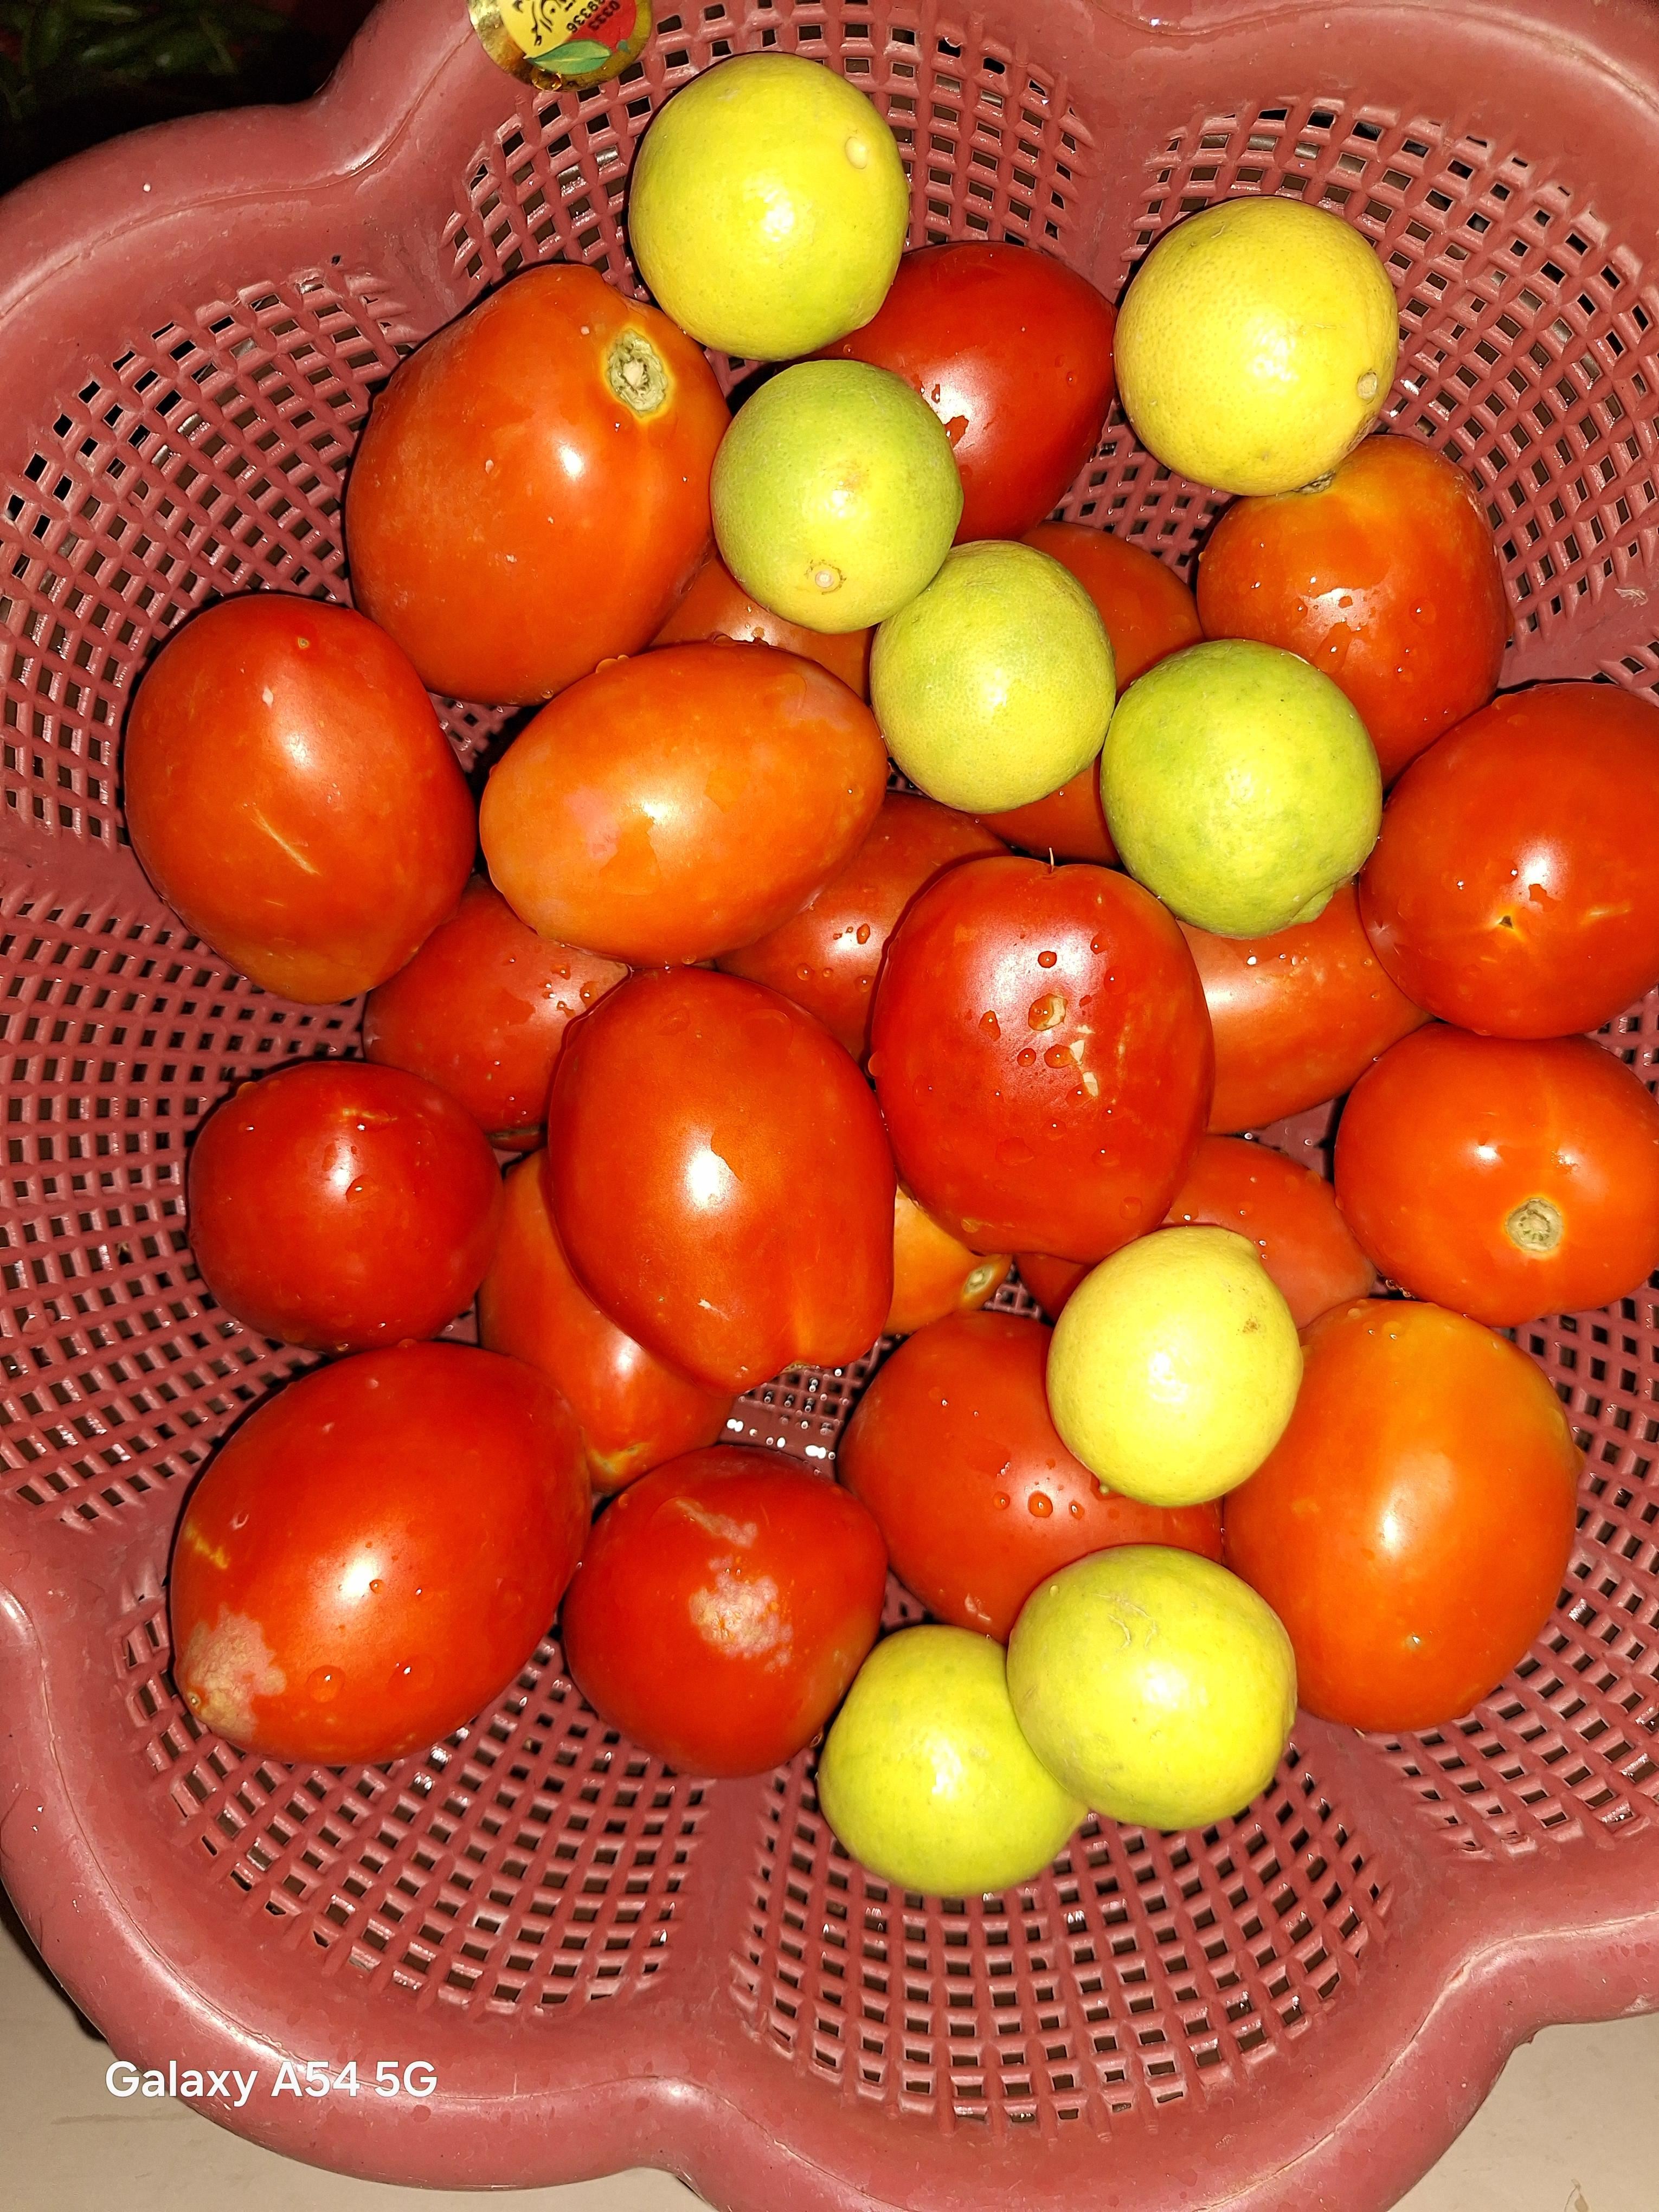non-mango: (141, 1308, 573, 1770), (840, 1536, 1317, 1905), (87, 571, 476, 1008), (532, 961, 906, 1397), (472, 631, 901, 974), (613, 61, 971, 373), (1079, 181, 1412, 514), (1030, 1190, 1324, 1505), (1089, 664, 1422, 937)
